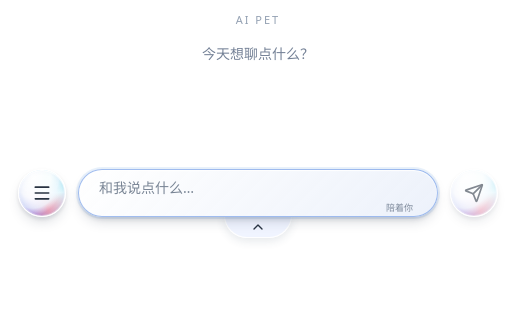
聊天面板本地模型状态 › 首次状态事件前，Dashboard 的 loading 快照会禁发并给出文字反馈
The image size is (515, 327).
Type "你好" into the text box labelled "和我说点什么" at (258, 194), box [79,170,437,218]
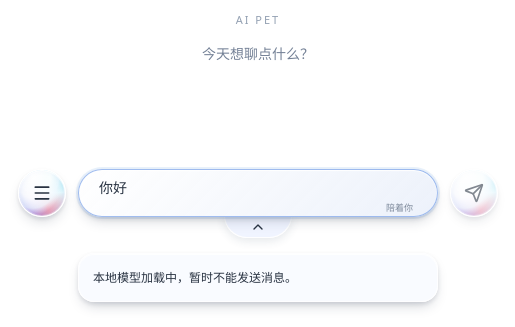
Expected: the button named "发送给 AI Pet" is disabled, [450,169,498,217]
Result: the message shows "本地模型加载中" at [93,269,177,286]
